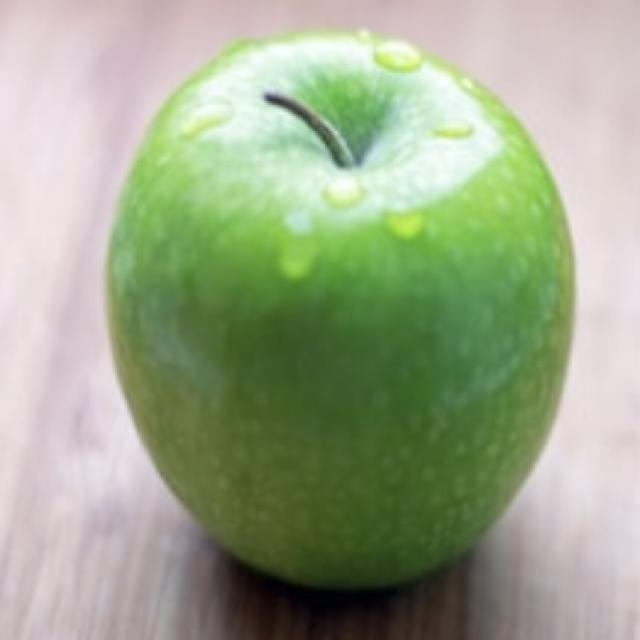Fresh Apple: (124, 37, 588, 583)
